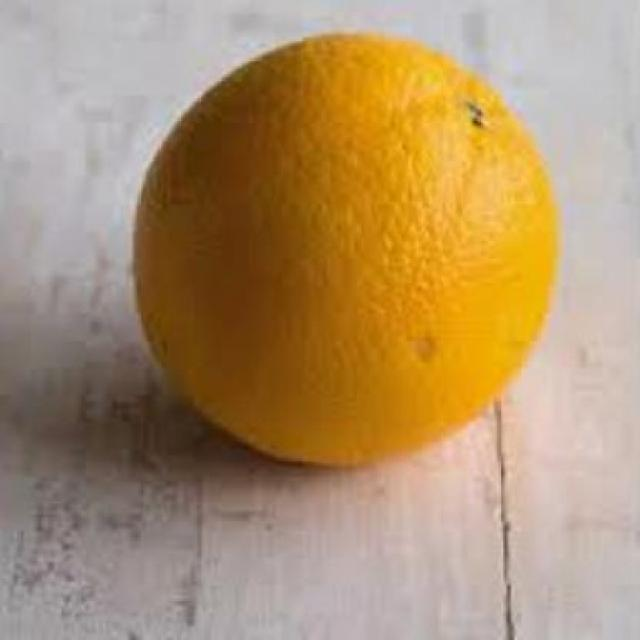Jeruk Sudah Matang: (135, 34, 560, 470)
